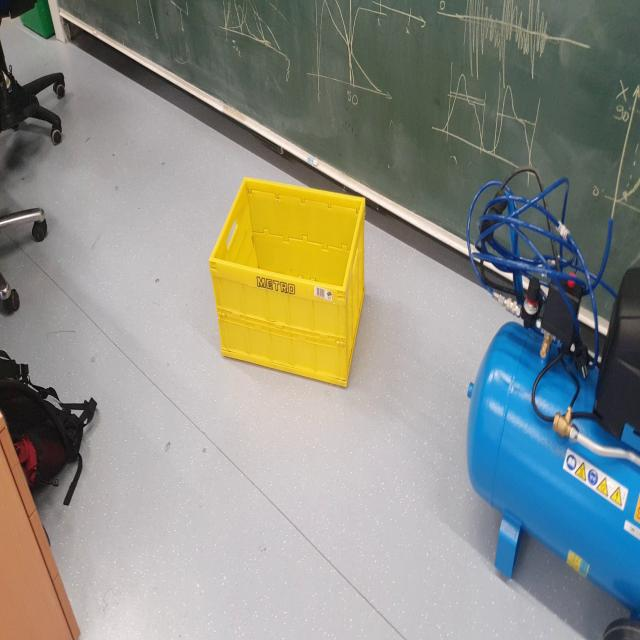box: (195, 158, 374, 397)
